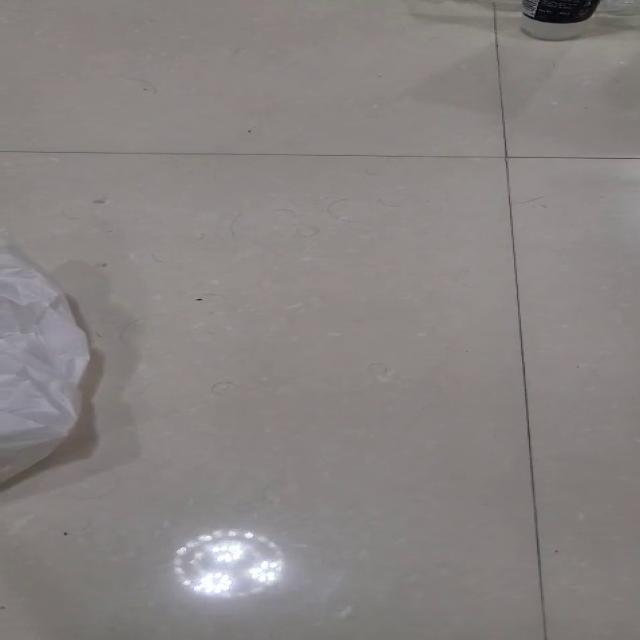plastic: (0, 227, 91, 482)
